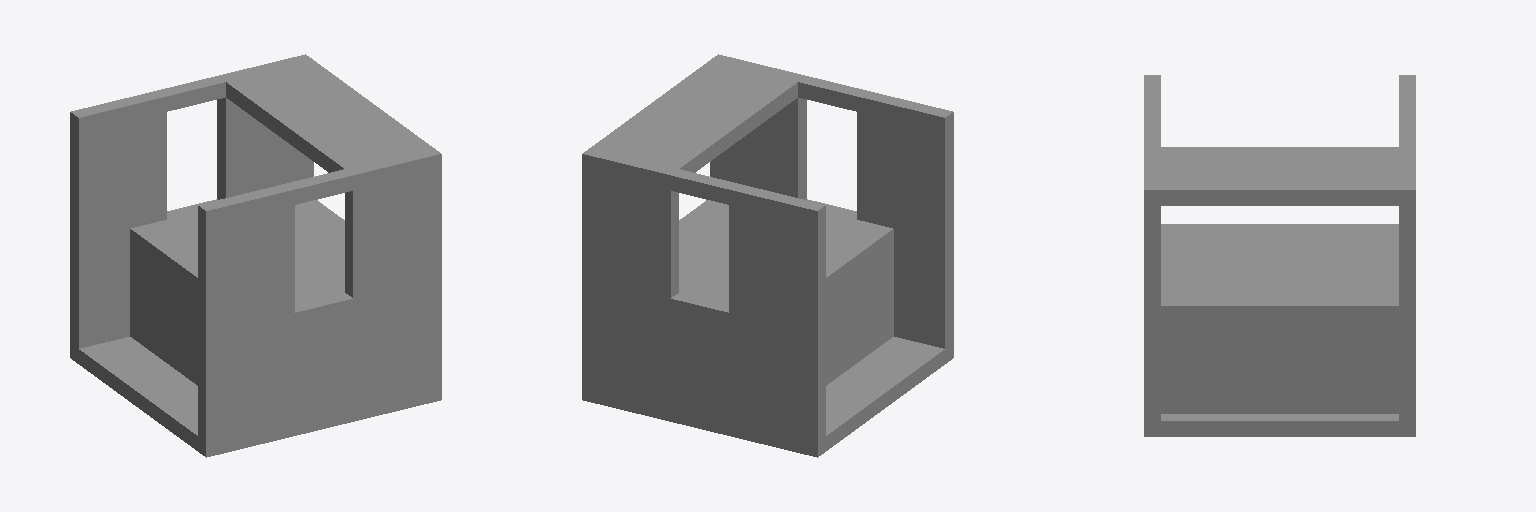
The model's file is saw.obj.
The picture shows the model from 3 angles: view 1: azimuth 30°, elevation 25°; view 2: azimuth 150°, elevation 25°; view 3: azimuth 270°, elevation 25°; orthographic projection.
Visible parts, largest first — view 1: Cube; view 2: Cube; view 3: Cube.
Boxes of the visible parts, x1,y1,x2,y2 form: Cube: [70, 54, 441, 457]; Cube: [582, 54, 953, 457]; Cube: [1144, 75, 1415, 436].
Size of the model in its own units: 1 by 1 by 1.